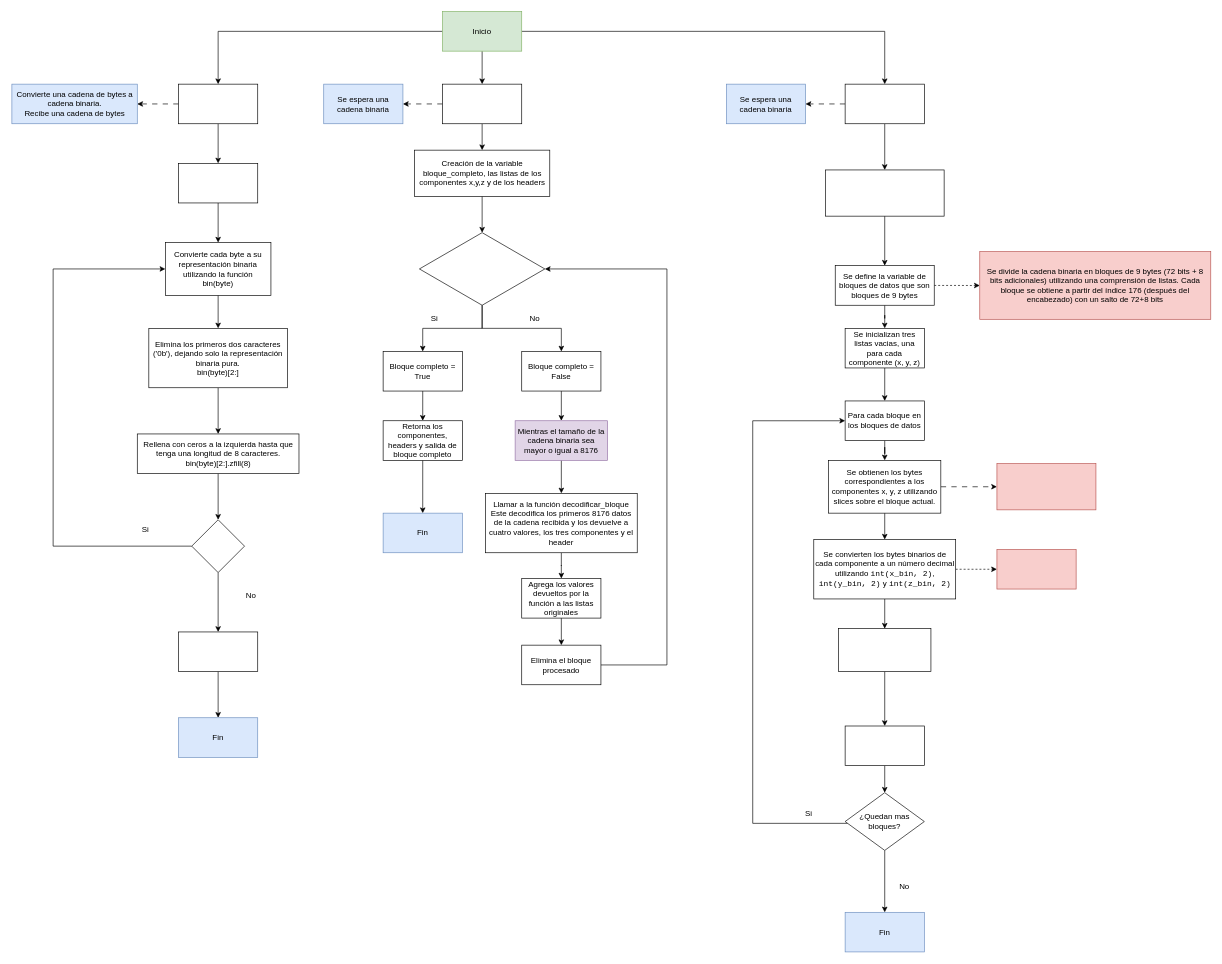
The diagram is 1222 pixels wide and 964 high, and some of its shapes have lost their labels. The centre of each missing label's shape, as x and y in pixels:
"2 indica que la base es binaria." goes at point (1036, 569).
"Decodificar bloque" goes at point (884, 103).
"Devuelve los cuatro valores, componentes x, y, z y los encabezados" goes at point (884, 745).
"Función convertir_a_binario" goes at point (218, 103).
"Función decodificar_datos" goes at point (482, 103).
"len(bindata) % 8176 == 0" goes at point (482, 268).
"Los valores decimales de x, y, z se agregan a las listas correspondientes" goes at point (884, 650).
"Para cada byte en la cadena de bytes" goes at point (218, 183).
"Retorna la cadena binaria" goes at point (218, 651).
"Se obtiene el encabezado (Primeros 176 caracteres) header = bindata [:176]" goes at point (884, 192).
"x_bin = bloque[4:24] y_bin = bloque[28:48] z_bin = bloque[52:72]" goes at point (1046, 486).
"¿Hay mas bytes?" goes at point (218, 546).
